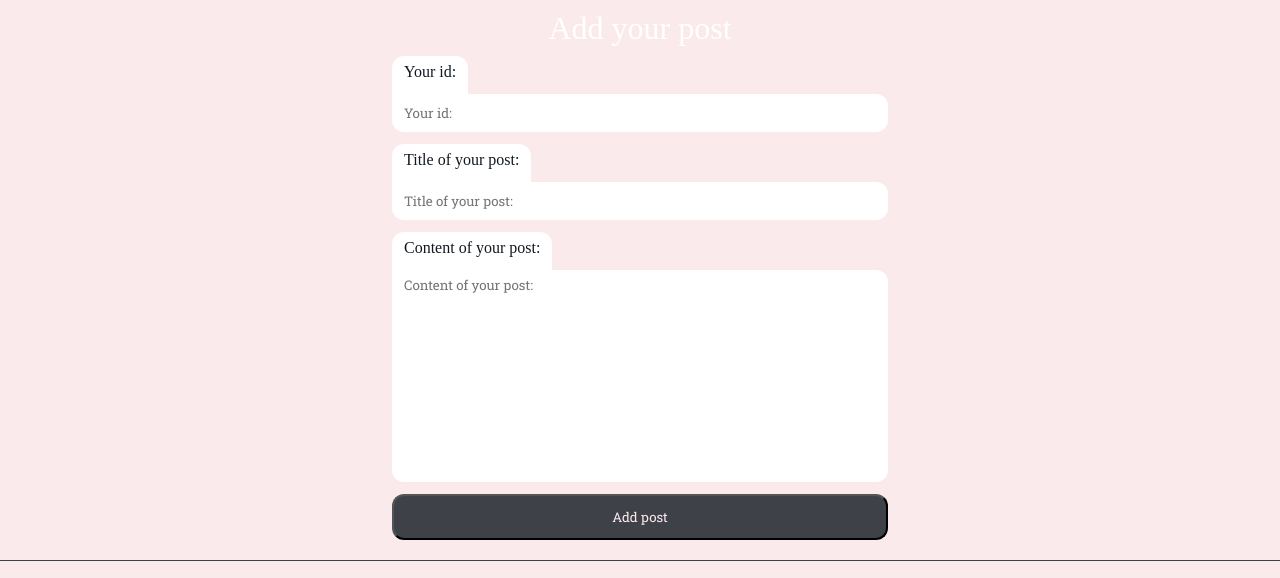
Test: test Form › should properly handle user input changes
This screenshot has width=1280, height=578.
Type "2" into the number field with placeholder "Your id:" at [640, 113], box [392,94,888,132]
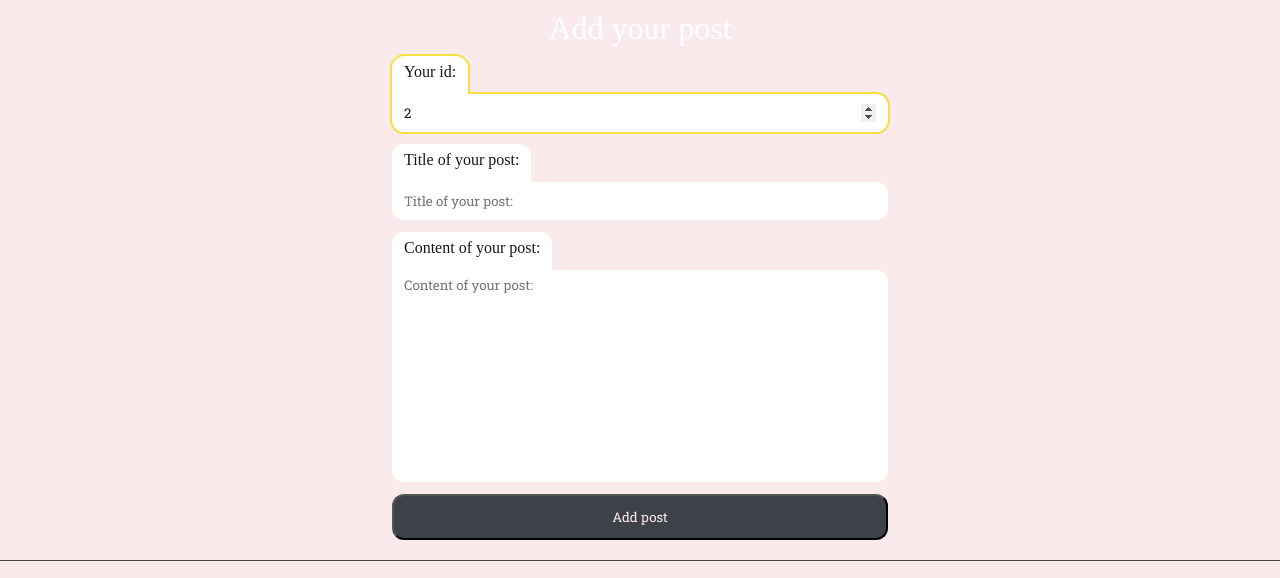
Type "title" into the field with placeholder "Title of your post:" at [640, 201], box [392,182,888,220]
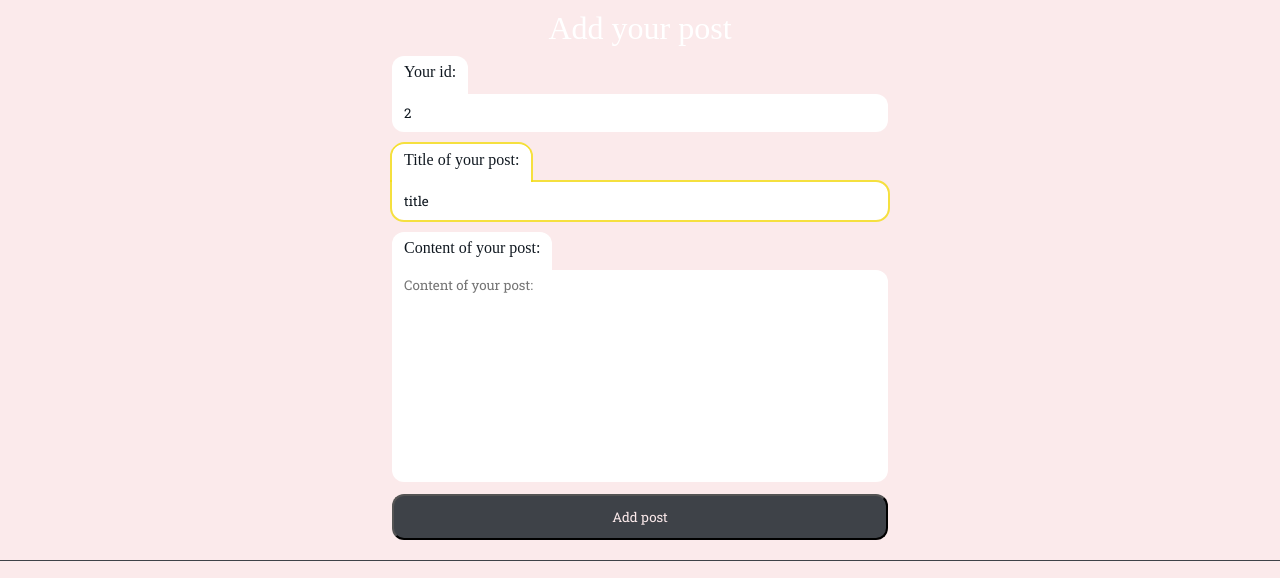
Type "body" into the text box with placeholder "Content of your post:" at [640, 376], box [392,270,888,482]
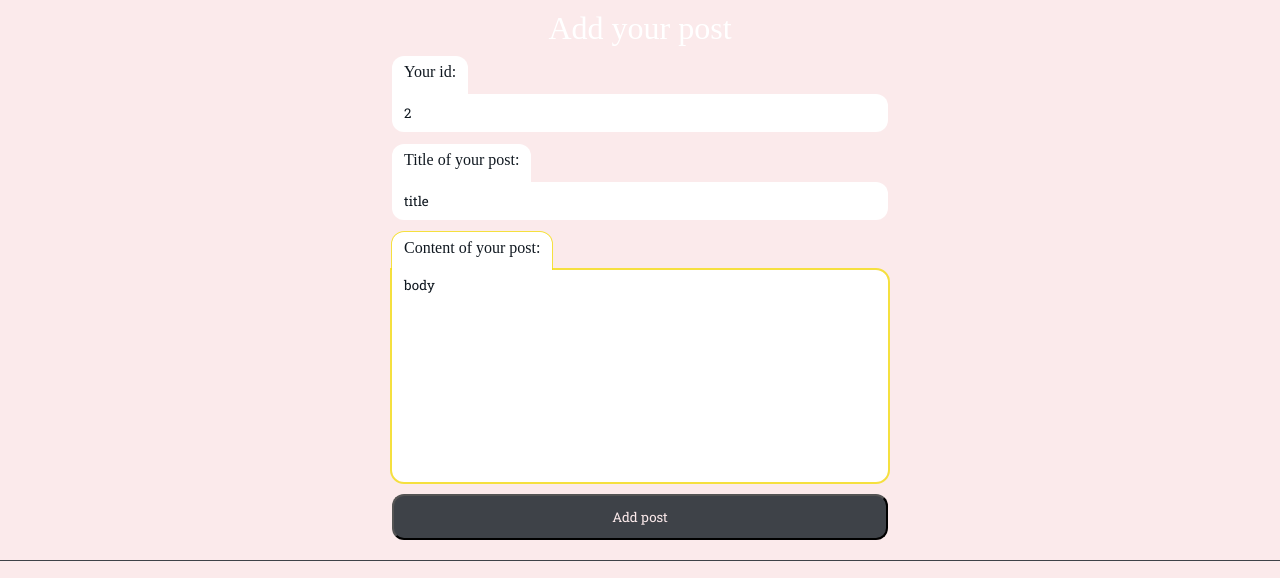
Click the button "Add post" at [640, 517], box [392,494,888,540]
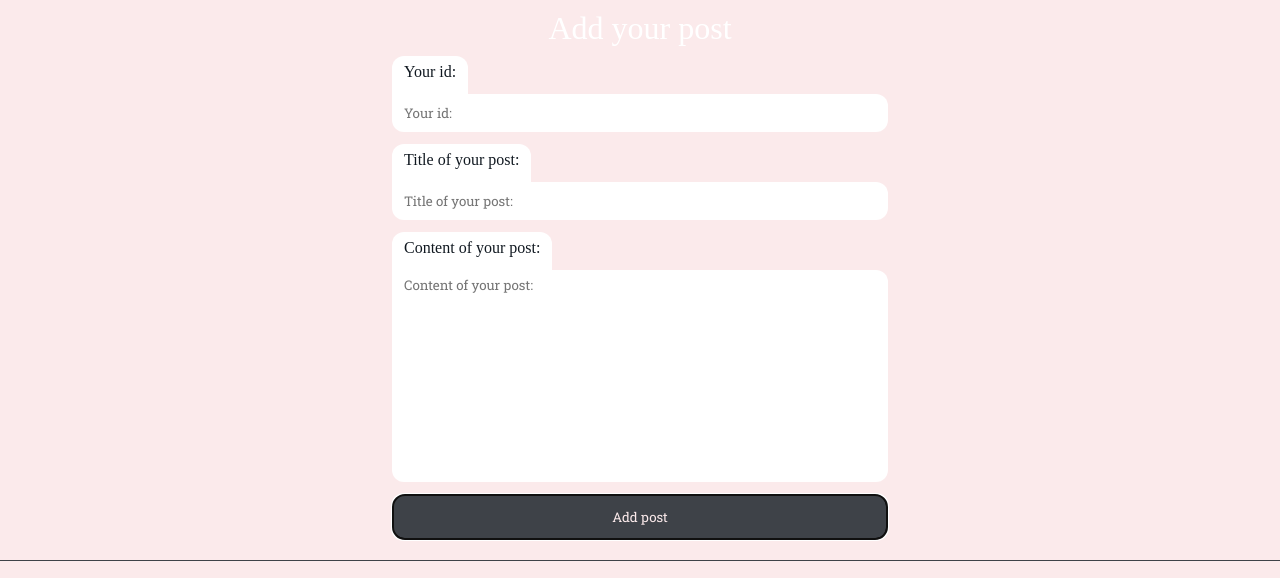
Result: the text box with placeholder "Content of your post:" is empty at [392,270,888,482]
Result: the field with placeholder "Title of your post:" is empty at [392,182,888,220]
Result: the number field with placeholder "Your id:" is not empty at [392,94,888,132]
